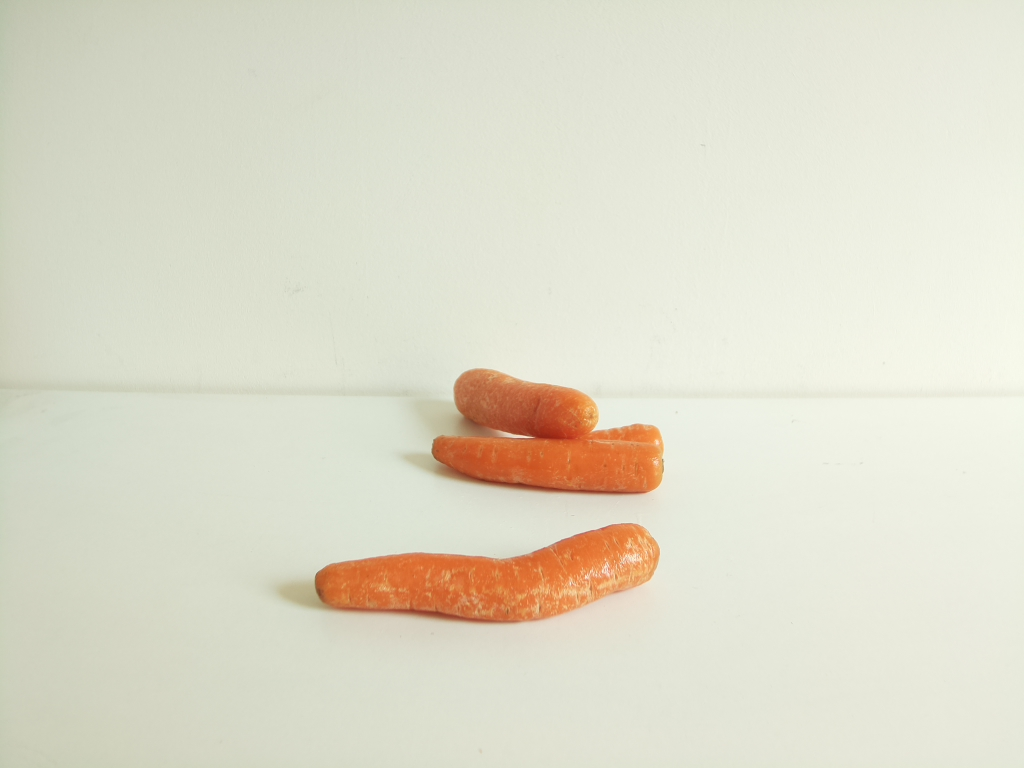carrot: (317, 524, 663, 619), (429, 368, 666, 494)
